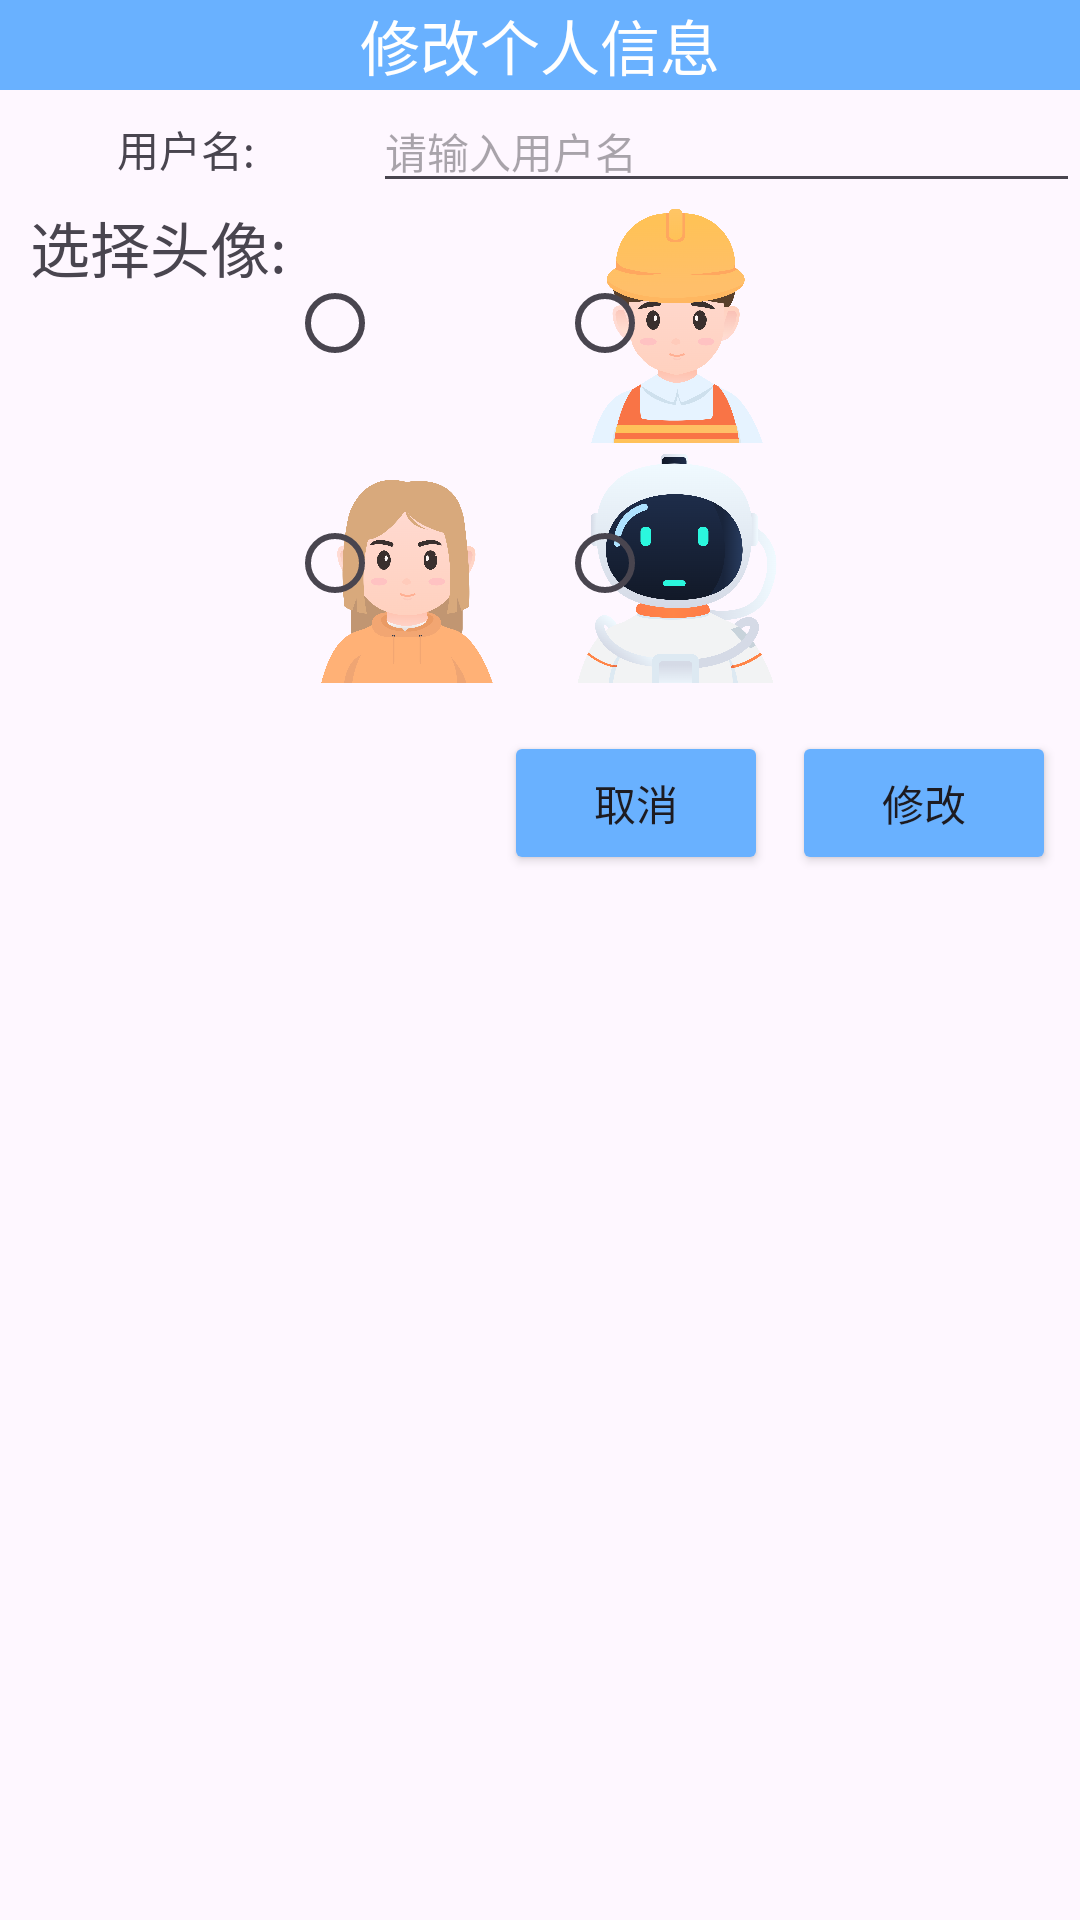

Icons on this 1080px×1920px Android screen, each with its box as box=[x1, y1, x2, y2]:
girl: box=[305, 480, 493, 683]
robot: box=[575, 454, 776, 683]
worker: box=[575, 209, 745, 443]
